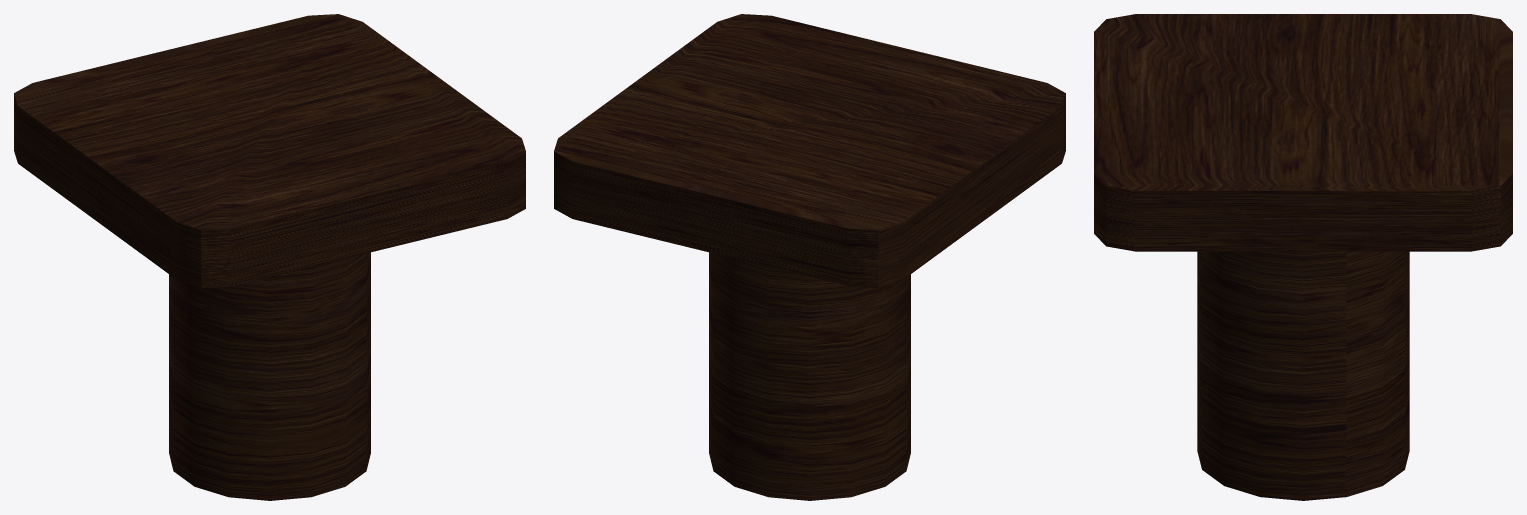
The model's file is BasicTable.fbx.
The picture shows the model from 3 angles, left to right: view 1: azimuth 30°, elevation 25°; view 2: azimuth 150°, elevation 25°; view 3: azimuth 270°, elevation 25°; orthographic projection. The views are drawn at different scales.
Visible parts, largest first — view 1: Table, Support; view 2: Table, Support; view 3: Table, Support.
Boxes of the visible parts, bbox=[...] form: Table: bbox=[14, 14, 525, 287]; Support: bbox=[169, 252, 370, 500]; Table: bbox=[554, 14, 1065, 287]; Support: bbox=[709, 252, 910, 500]; Table: bbox=[1094, 14, 1512, 251]; Support: bbox=[1197, 251, 1409, 500].
Bounding box in the file's own units: 0.0204 × 0.019 × 0.0204.
Materials: 1 (1 with a texture image).
